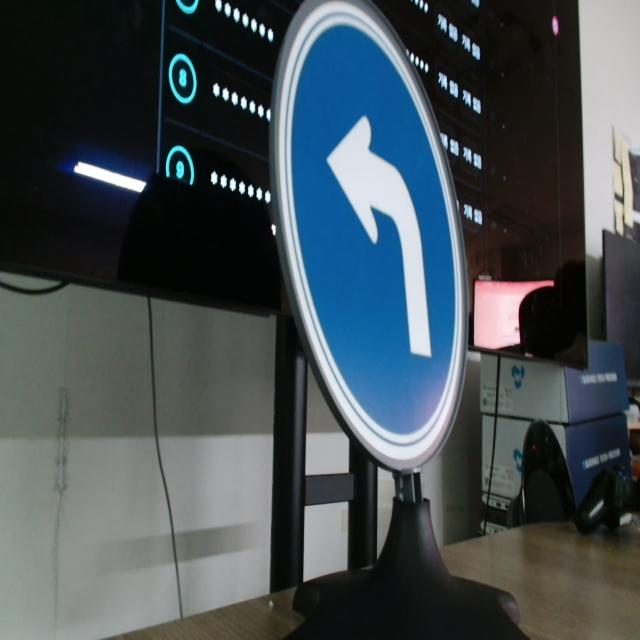left_direction: (267, 0, 497, 545)
